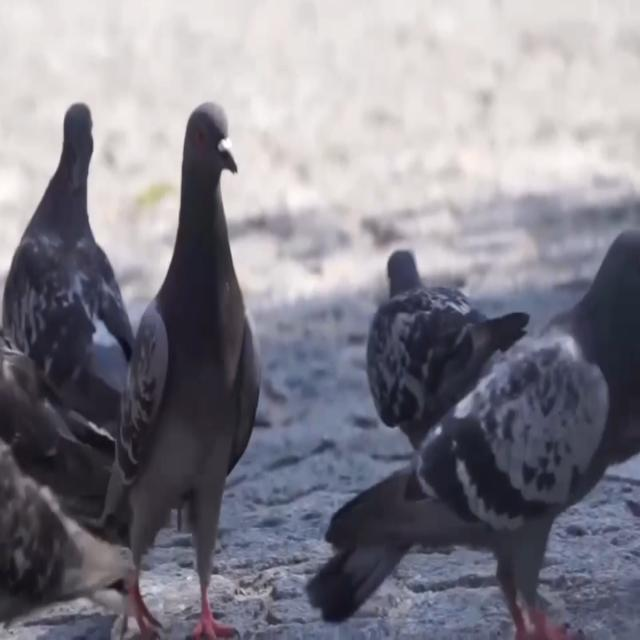bird: (315, 227, 640, 640), (111, 43, 271, 640), (340, 204, 537, 463), (9, 54, 139, 412), (1, 299, 128, 612), (0, 421, 134, 640)
